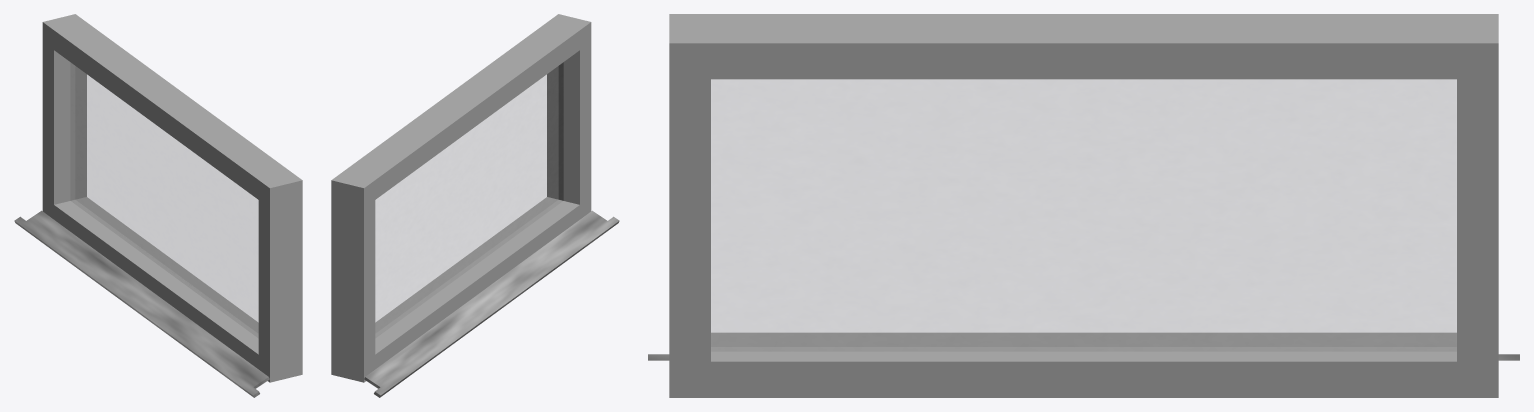
The model's file is Window_Stairs.fbx.
3 renders of one model, left to right at view 1: azimuth 30°, elevation 25°; view 2: azimuth 150°, elevation 25°; view 3: azimuth 270°, elevation 25°, orthographic. The views are drawn at different scales.
Parts seen in each view (by area): view 1: Window_stairs_glass.017; view 2: Window_stairs_glass.017; view 3: Window_stairs_glass.017.
Part boxes in pixels (x1,y1,x2,y2): Window_stairs_glass.017: (14,14,302,397); Window_stairs_glass.017: (331,14,619,397); Window_stairs_glass.017: (648,14,1519,397).
Size of the model in its own units: 25.31 by 87.5 by 189.
4 materials, 4 textured.
